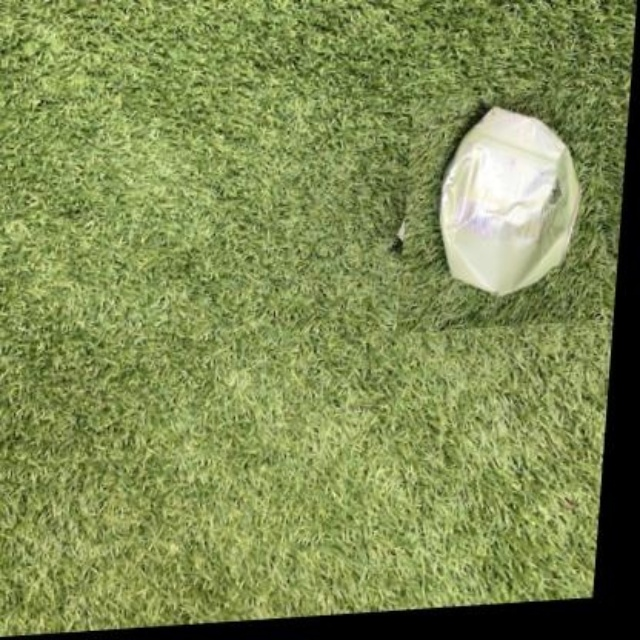trash: (440, 106, 578, 294)
